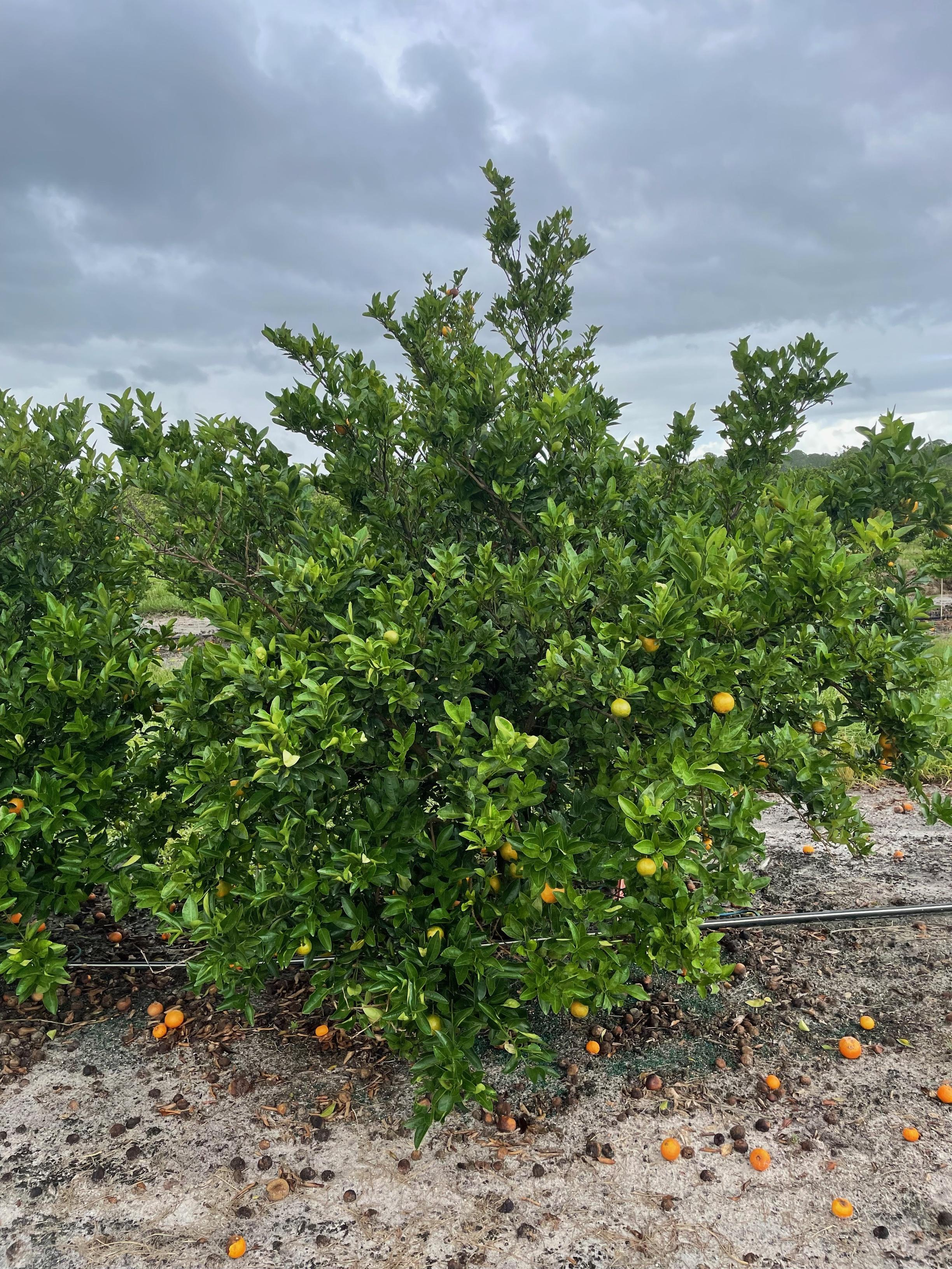fruit_on_ground: (224, 773, 254, 802), (634, 628, 665, 655), (538, 879, 567, 905), (710, 689, 737, 715), (3, 793, 29, 819), (608, 695, 634, 720), (210, 876, 235, 901), (422, 1011, 446, 1036), (497, 840, 523, 863), (331, 414, 355, 438), (896, 493, 919, 517), (877, 730, 902, 752), (635, 855, 658, 878), (486, 872, 509, 894), (567, 998, 591, 1019), (880, 743, 904, 764), (423, 924, 445, 946), (932, 518, 952, 542), (292, 936, 314, 957), (753, 752, 774, 772), (380, 628, 401, 648), (809, 717, 830, 737), (506, 862, 528, 881), (876, 755, 896, 773), (438, 322, 456, 339), (699, 836, 715, 853), (151, 699, 165, 714), (448, 286, 460, 298), (465, 304, 476, 316), (444, 287, 455, 298)
fruit_on_tree: (837, 1034, 863, 1060), (747, 1147, 772, 1173), (224, 1233, 248, 1260), (265, 1177, 290, 1202), (830, 1196, 855, 1220), (660, 1136, 682, 1160), (163, 1007, 184, 1029), (644, 1072, 664, 1092), (763, 1072, 782, 1091), (497, 1113, 516, 1132), (312, 1021, 332, 1039), (901, 1124, 921, 1142), (936, 1082, 952, 1104), (2, 990, 20, 1008), (146, 1000, 164, 1018), (858, 1013, 877, 1030), (5, 909, 24, 925), (150, 1022, 169, 1038), (396, 1157, 413, 1174), (114, 994, 131, 1011), (495, 1099, 512, 1115), (584, 1038, 601, 1054), (712, 1054, 728, 1070), (732, 1138, 748, 1154), (29, 988, 46, 1003), (660, 1196, 675, 1212), (481, 1111, 497, 1126), (799, 1137, 815, 1152), (565, 1061, 581, 1076), (731, 961, 747, 976), (107, 929, 124, 943), (756, 1117, 771, 1132), (32, 919, 48, 933), (801, 841, 817, 855), (611, 1024, 625, 1038), (622, 1011, 636, 1025), (256, 1138, 271, 1151), (798, 1072, 813, 1085), (901, 800, 916, 813), (912, 919, 928, 931), (892, 847, 905, 860), (85, 891, 98, 903), (167, 900, 180, 912), (94, 909, 106, 922), (159, 930, 171, 942)
